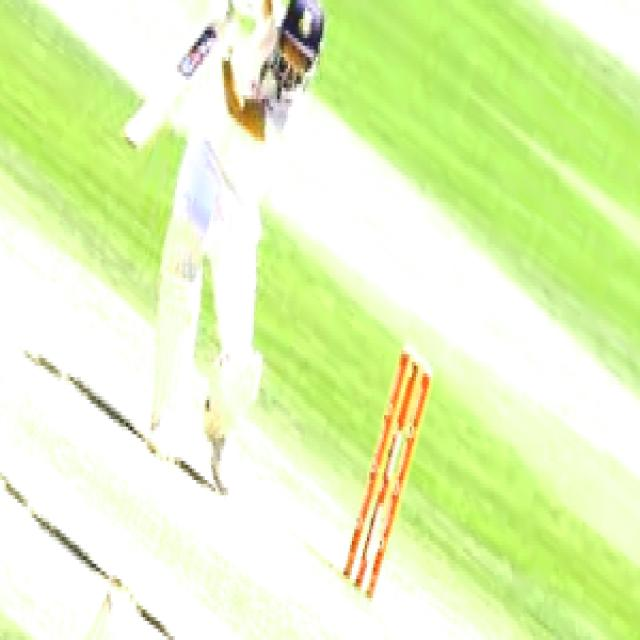toe: (118, 105, 149, 153)
